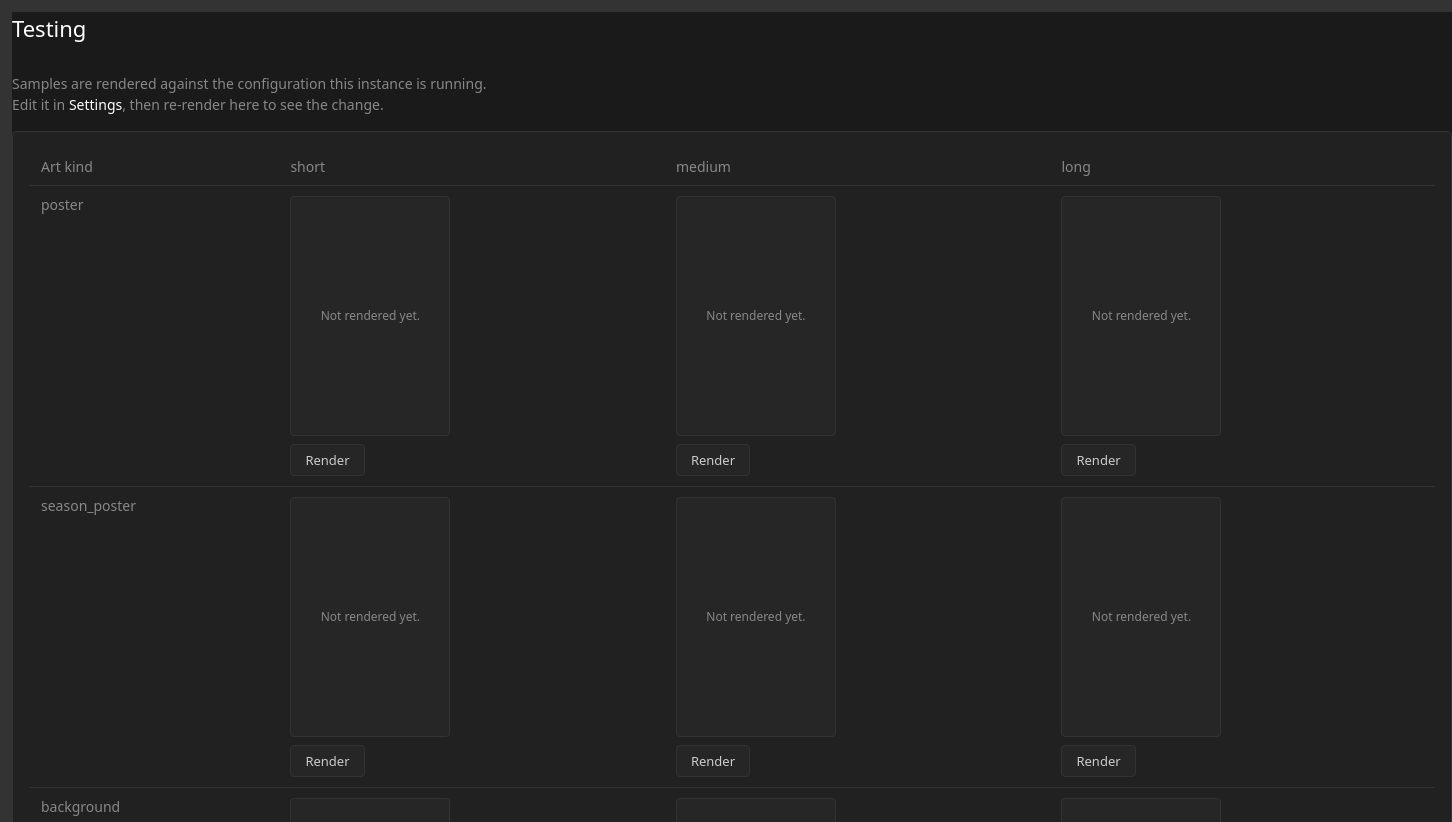
Test case: Testing › renders a truncated response as a labelled outcome, not an error
Click the 3rd button "Render".
click(1099, 460)  # box left=1062, top=444, right=1136, bottom=476
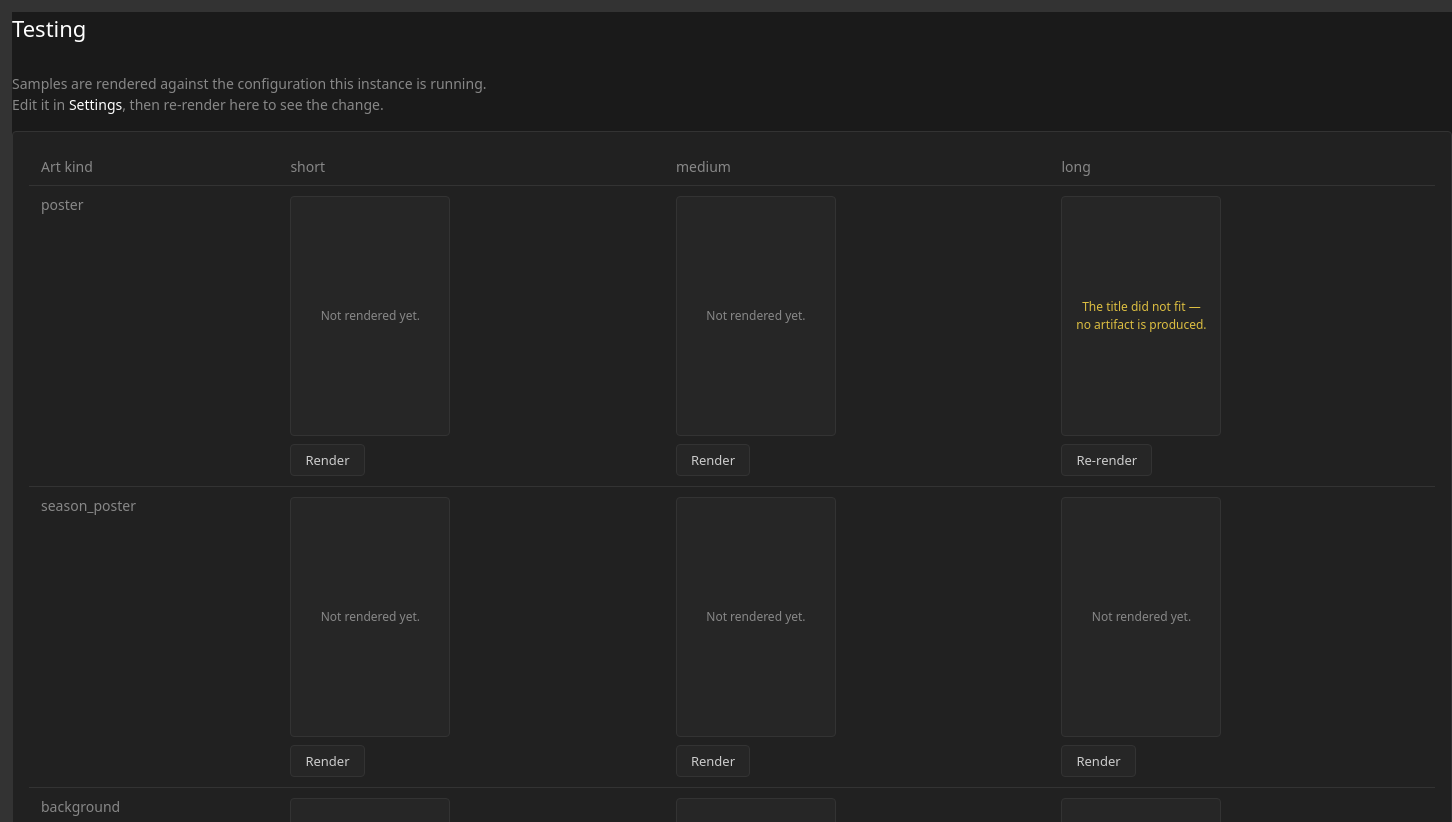
Result: the text "The title did not fit — no artifact is produced." is shown at left=1074, top=298, right=1208, bottom=334
Result: the text with class "sample-truncated" shows "did not fit" at left=1076, top=298, right=1206, bottom=333
